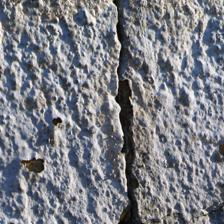Crack: (53, 1, 97, 220)
